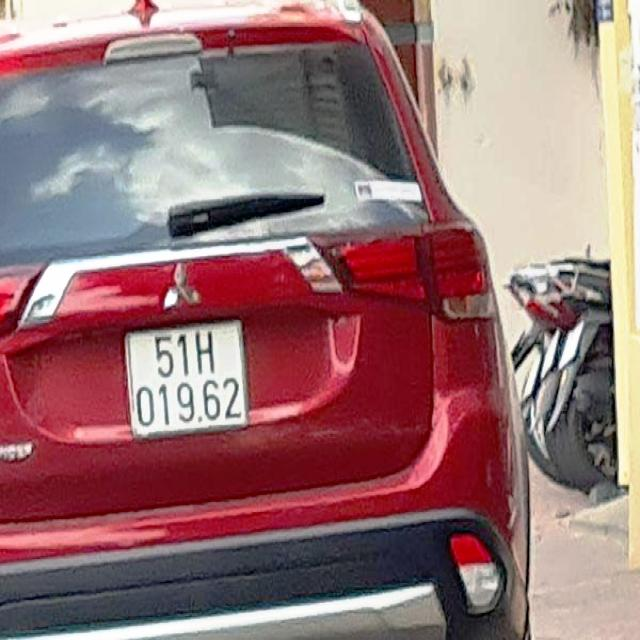license_plate: (129, 322, 249, 435)
